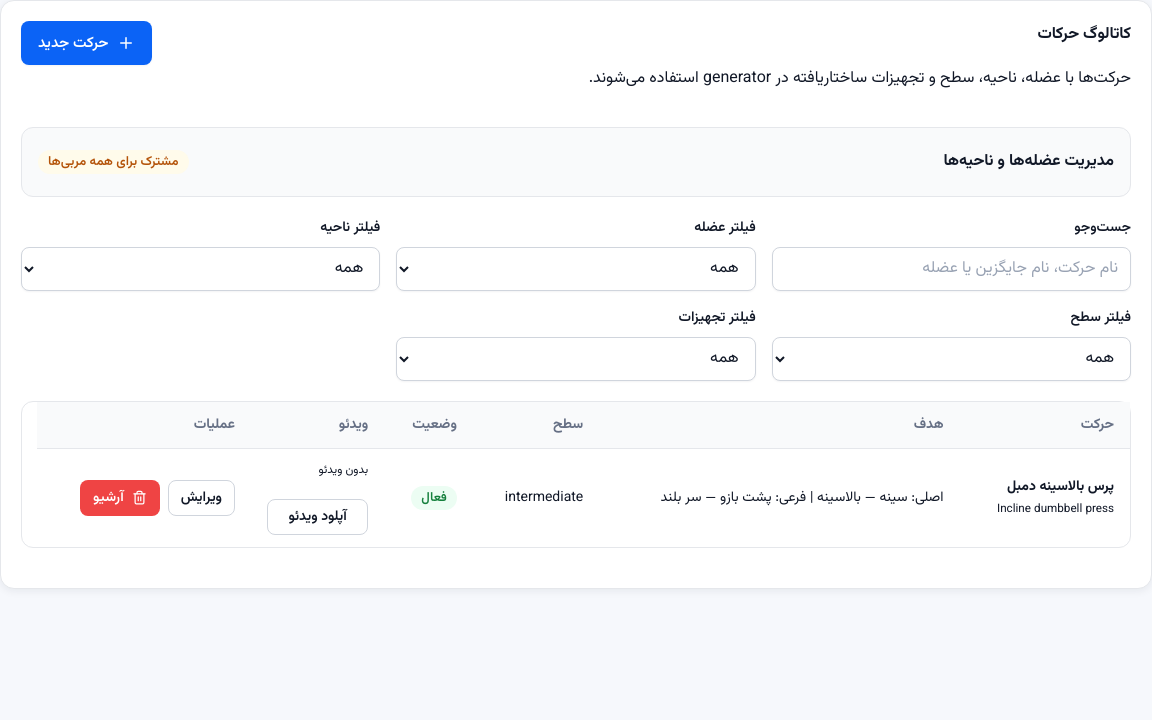
Test case: StructuredCatalogSection › shows standard equipment when creating an exercise and preserves legacy equipment when editing
Click the button "حرکت جدید" at (86,43), box [21, 21, 152, 65]
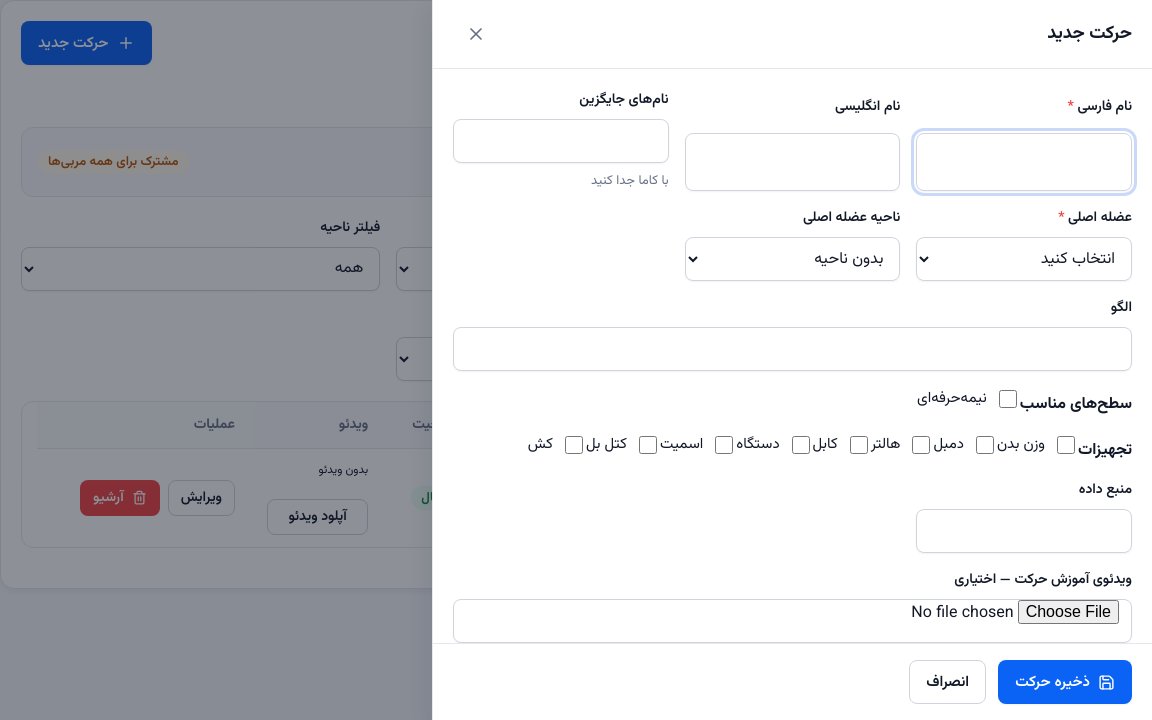
Check: the checkbox labelled "وزن بدن" is shown, box [1057, 436, 1075, 454]
Check: the checkbox labelled "دمبل" is shown, box [976, 436, 994, 454]
Check: the checkbox labelled "هالتر" is shown, box [912, 436, 930, 454]
Click the button "انصراف" at (948,682), box [909, 660, 986, 704]
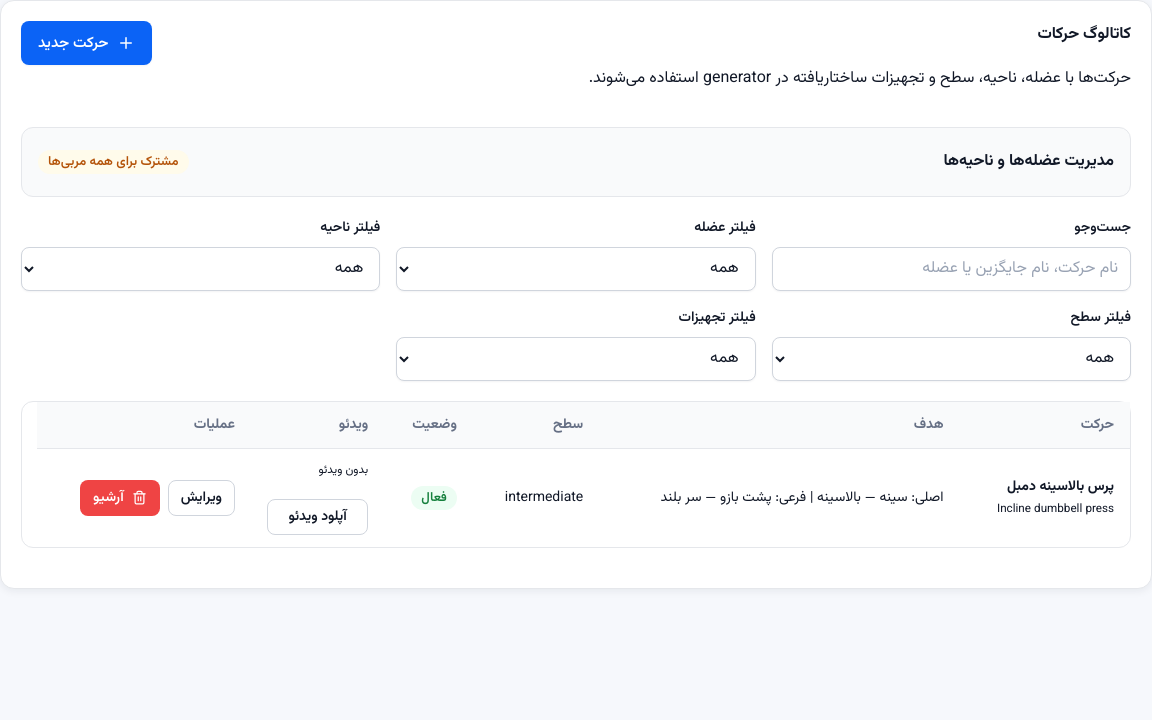
Click the button "ویرایش" at (201,498), box [168, 480, 235, 516]
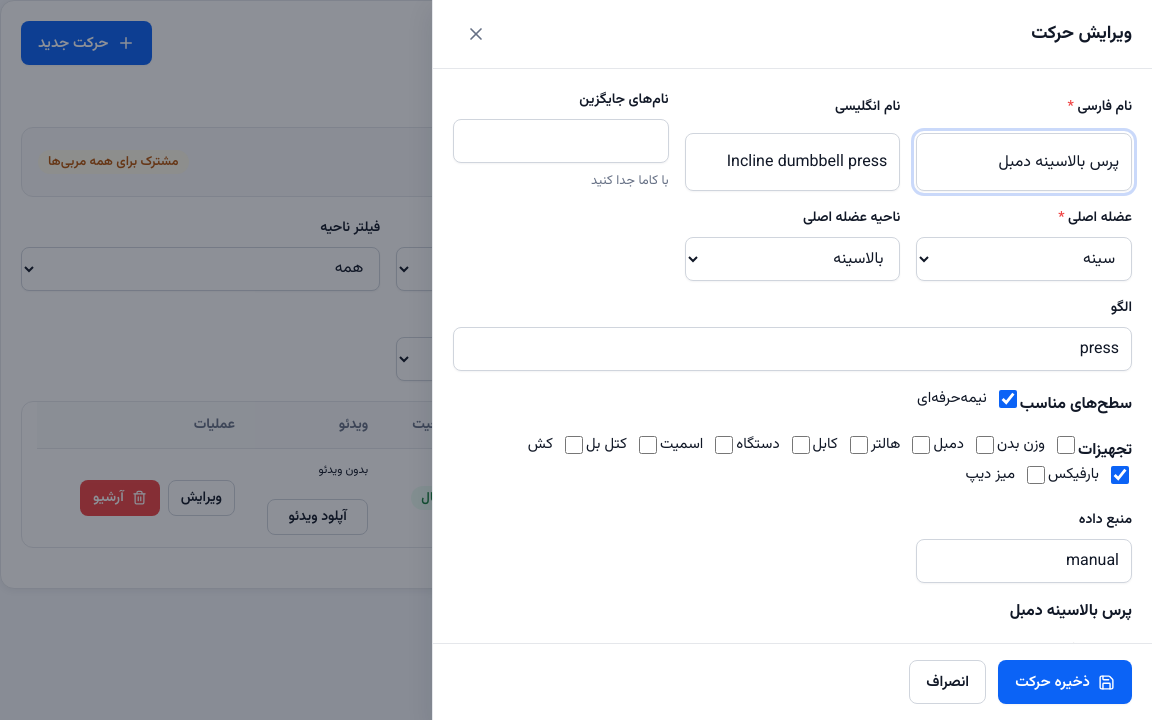
Check: the checkbox labelled "بارفیکس" is checked, box [1111, 466, 1129, 484]
